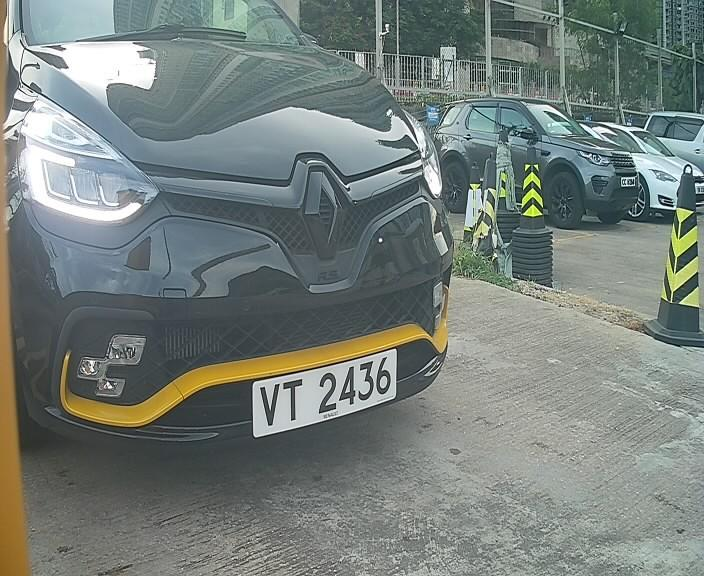privatecar: (7, 21, 513, 481)
